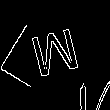M_S: (26, 25, 84, 85)
